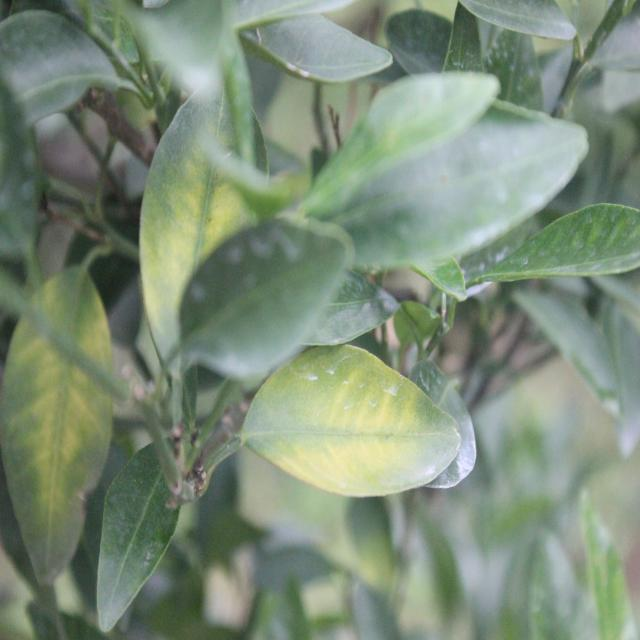greening: (0, 294, 109, 552), (264, 365, 445, 494)
